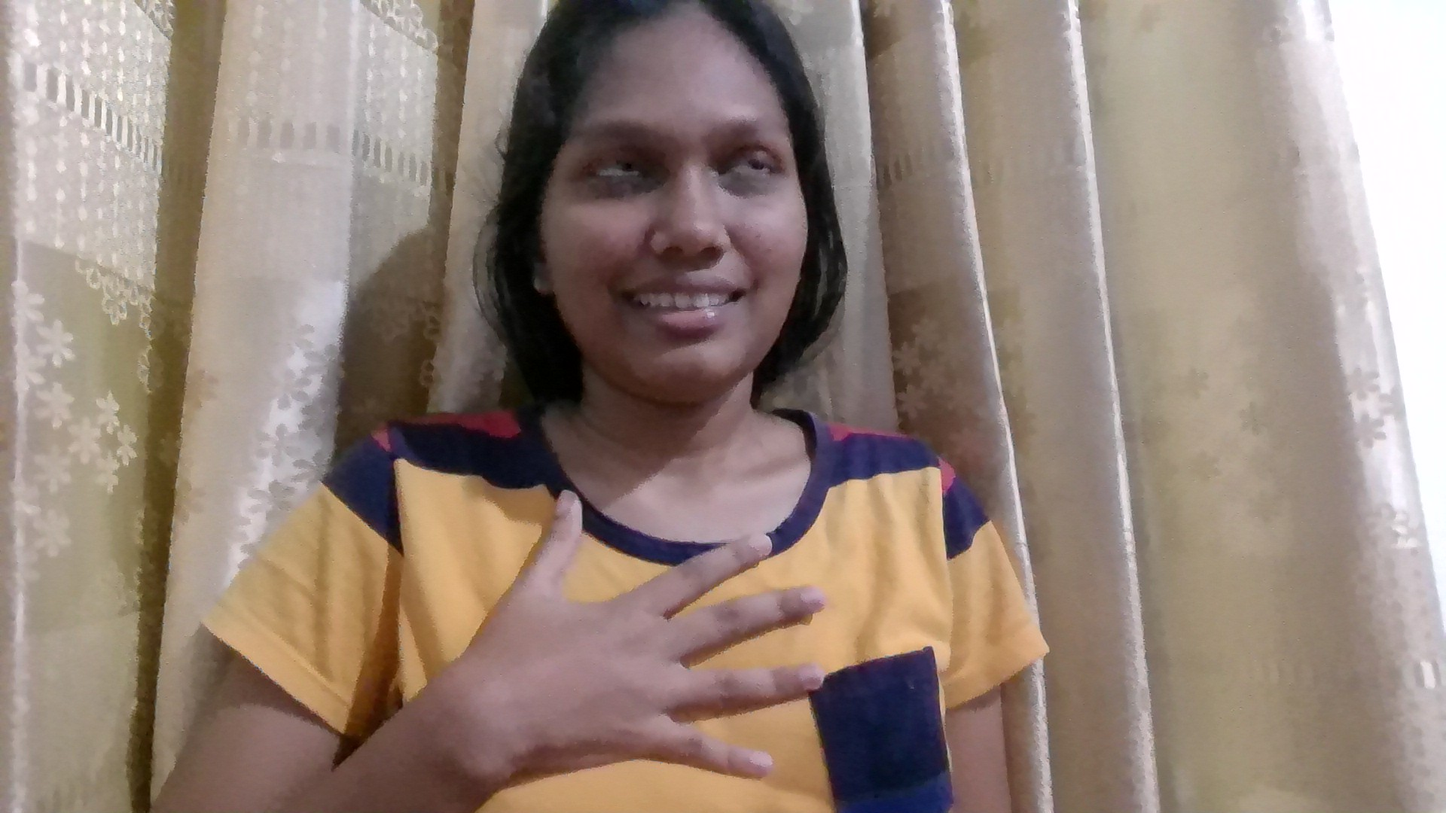Please: (461, 464, 880, 813)
